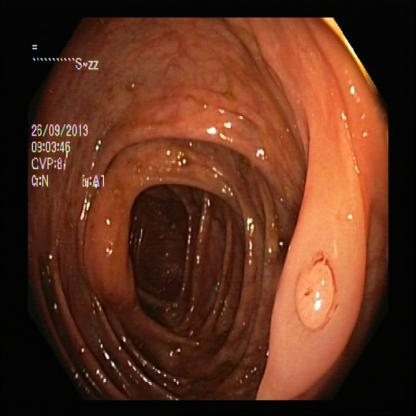Polyps: (292, 244, 340, 342)
